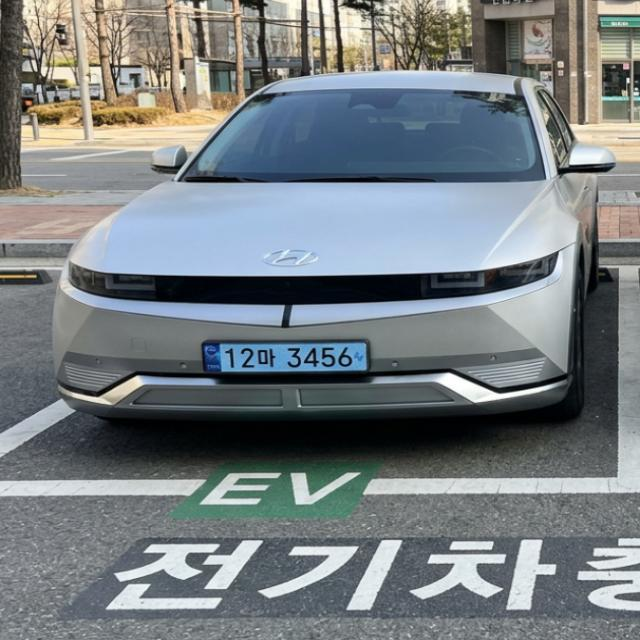car: (186, 327, 384, 387)
carev: (205, 339, 224, 377), (351, 338, 370, 374)
